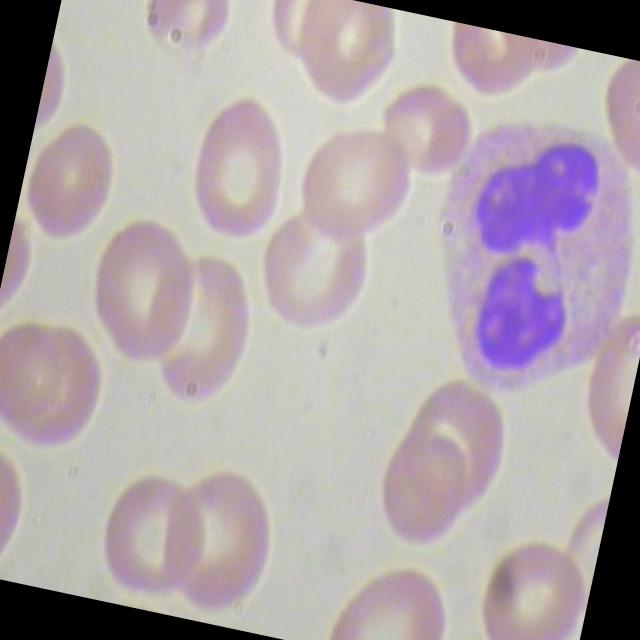RBC: (134, 247, 272, 418), (71, 203, 208, 374), (147, 458, 288, 624), (86, 454, 220, 619), (244, 195, 382, 349), (282, 110, 420, 264), (172, 86, 299, 252), (13, 107, 125, 262), (363, 427, 475, 561), (465, 527, 592, 640), (365, 75, 482, 187), (0, 307, 82, 440), (131, 0, 235, 82)
WBC: (370, 81, 640, 430)
